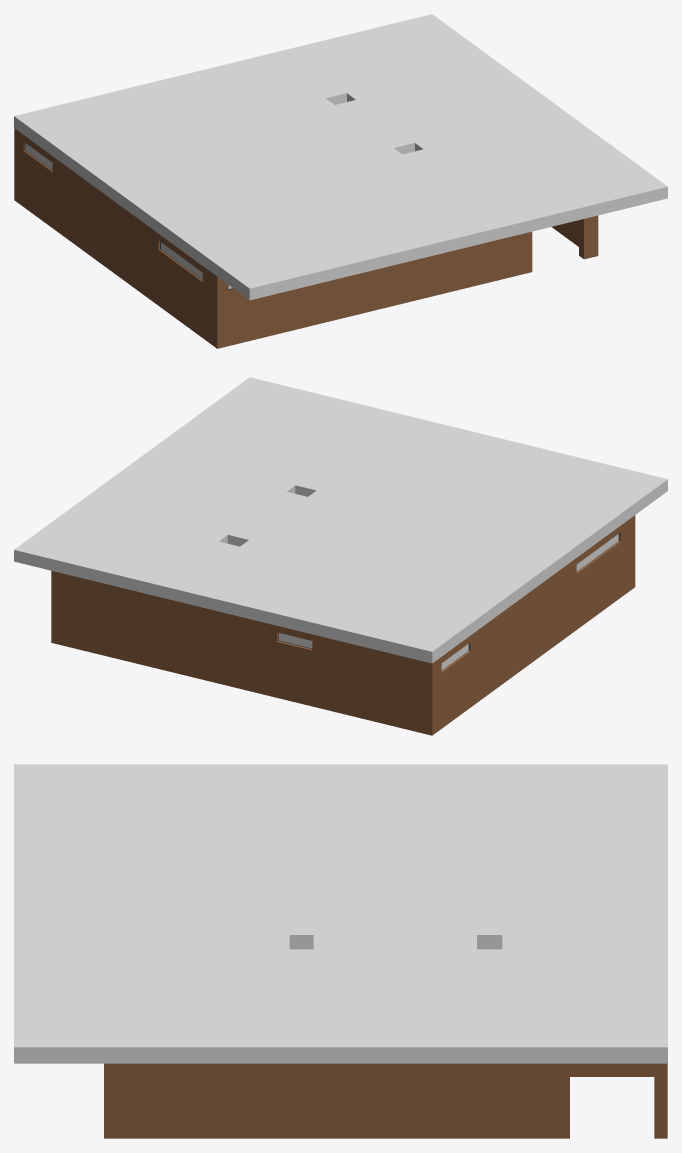
File: New Roof, Walls And Windows.fbx
3 renders of one model, top to bottom at view 1: azimuth 30°, elevation 25°; view 2: azimuth 150°, elevation 25°; view 3: azimuth 270°, elevation 25°, orthographic. The views are drawn at different scales.
Parts seen in each view (by area): view 1: Roof, Structure; view 2: Roof, Structure; view 3: Roof, Structure.
Boxes of the visible parts, left/top/right/bottom form: Roof: left=14, top=14, right=667, bottom=300; Structure: left=14, top=128, right=598, bottom=348; Roof: left=14, top=377, right=667, bottom=663; Structure: left=51, top=515, right=635, bottom=735; Roof: left=14, top=764, right=667, bottom=1063; Structure: left=104, top=1063, right=667, bottom=1138.
Bounding box in the file's own units: 1404 × 270 × 1371.
